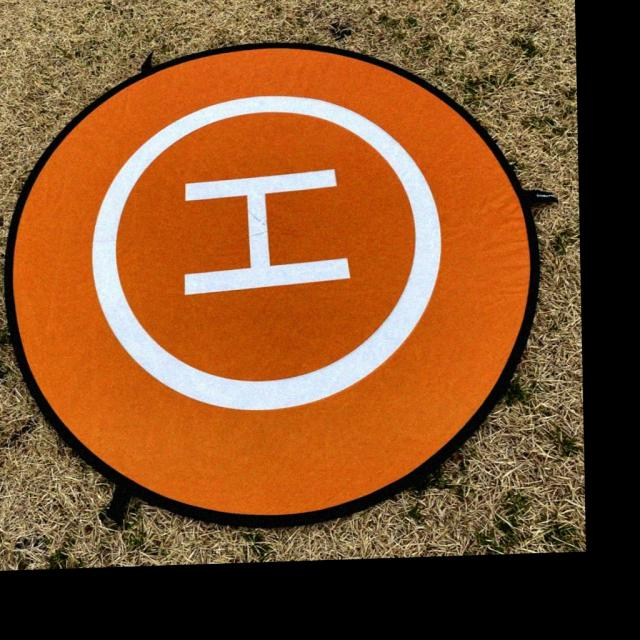helipad: (83, 91, 444, 418)
